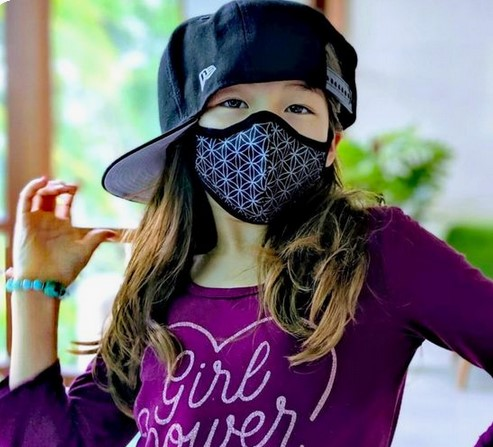face_with_mask: (172, 3, 352, 221)
